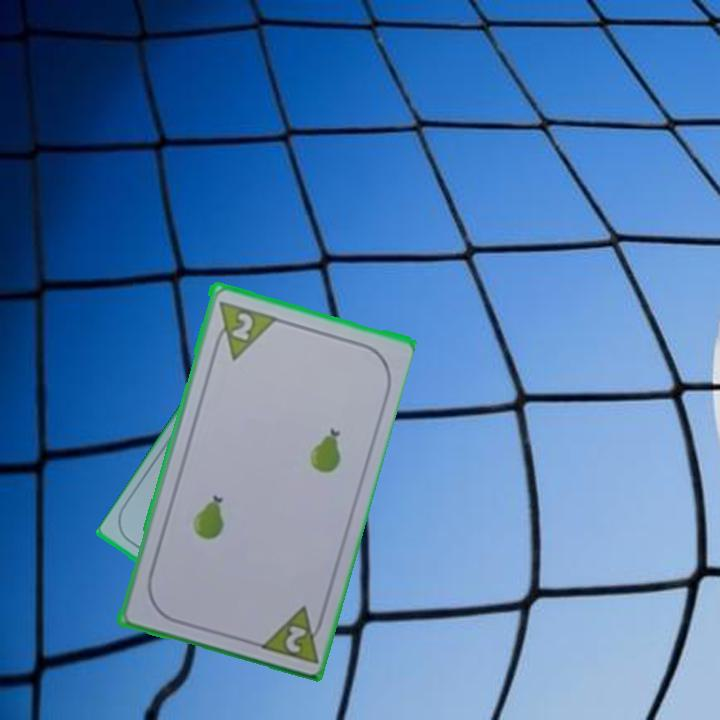2p: (254, 600, 329, 666), (227, 308, 256, 343)
